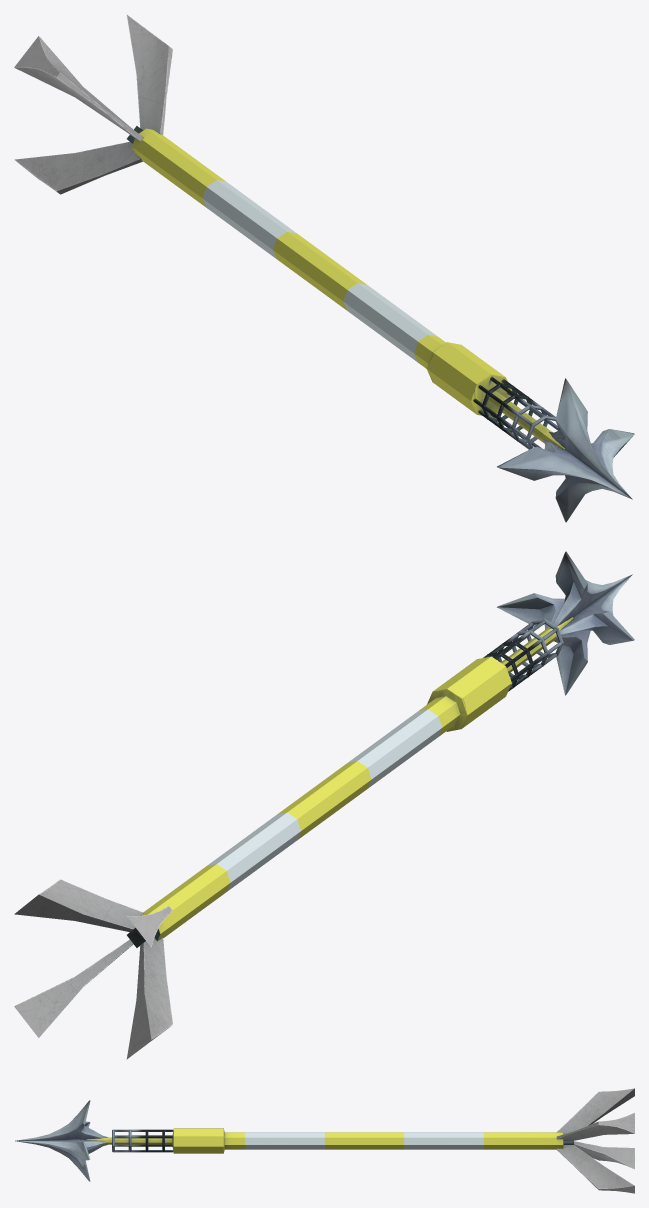
Rendered from Arrow_01.fbx.
3 views of the same model, one above another, from view 1: azimuth 30°, elevation 25°; view 2: azimuth 150°, elevation 25°; view 3: azimuth 270°, elevation 25° (orthographic). The views are drawn at different scales.
Parts seen in each view (by area): view 1: Arrow_01; view 2: Arrow_01; view 3: Arrow_01.
Part boxes in pixels (x1=…): Arrow_01: x1=14, y1=14, x2=634, y2=522; Arrow_01: x1=14, y1=551, x2=634, y2=1059; Arrow_01: x1=15, y1=1088, x2=634, y2=1193.
Bounding box in the file's own units: 53.68 × 53.68 × 372.
1 material, 1 textured.
